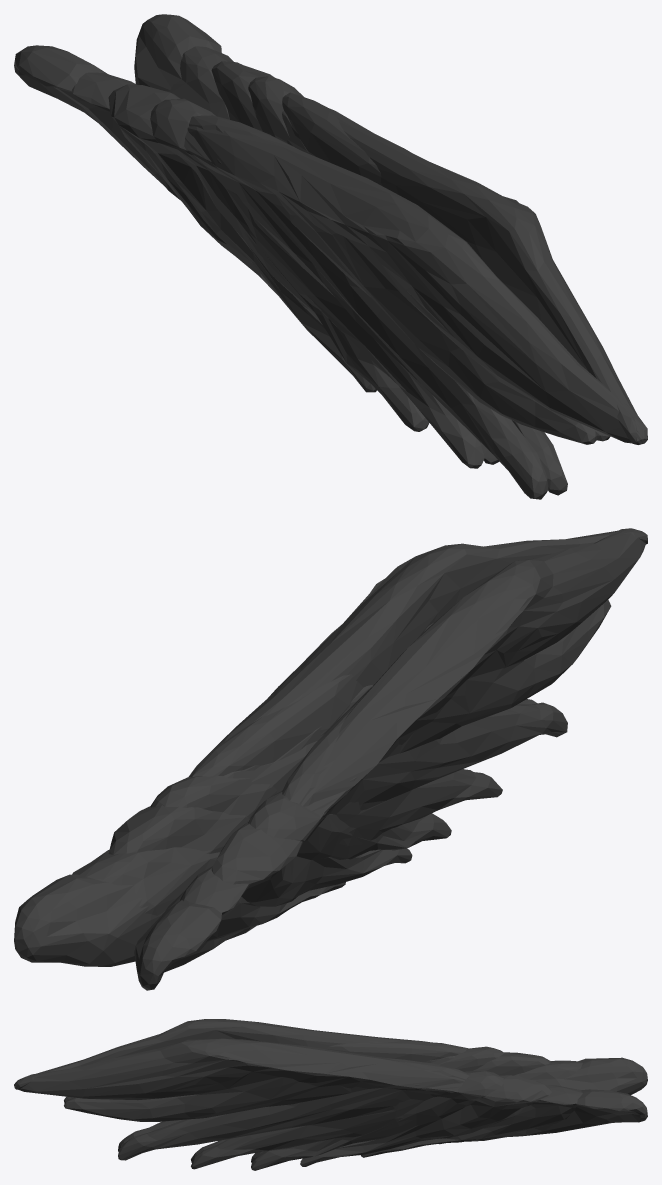
Rendered from m_semispinalis_thoracis.glb.
3 renders of one model, top to bottom at view 1: azimuth 30°, elevation 25°; view 2: azimuth 150°, elevation 25°; view 3: azimuth 270°, elevation 25°, orthographic. The views are drawn at different scales.
Visible parts, largest first — view 1: m_semispinalis_thoracis; view 2: m_semispinalis_thoracis; view 3: m_semispinalis_thoracis.
Part boxes in pixels (x1=…): m_semispinalis_thoracis: x1=14, y1=14, x2=647, y2=499; m_semispinalis_thoracis: x1=14, y1=528, x2=647, y2=990; m_semispinalis_thoracis: x1=14, y1=1019, x2=647, y2=1170.
Size of the model in its own units: 0.00119 by 0.00156 by 0.0066.
1 material, 1 textured.
